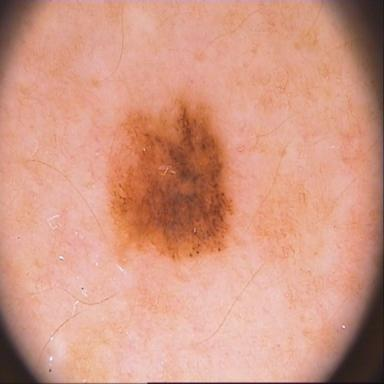nevus: (108, 92, 233, 263)
